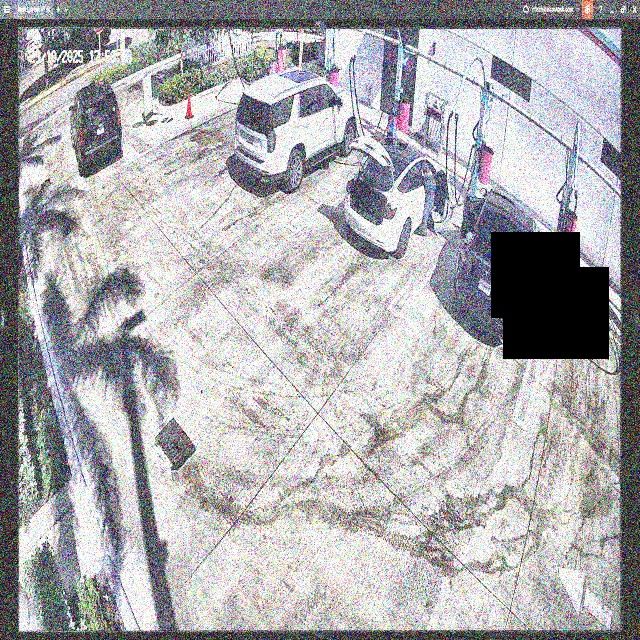Car: (236, 75, 358, 191), (457, 180, 541, 340), (348, 132, 449, 262)
